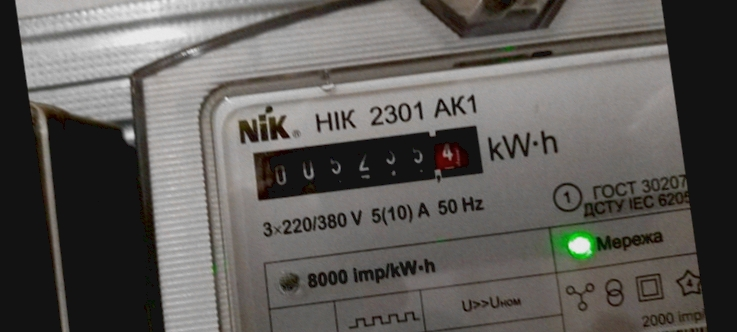0: (271, 158, 290, 186), (299, 152, 317, 179)
2: (354, 144, 371, 170)
3: (381, 138, 398, 165)
4: (438, 134, 456, 162)
5: (408, 135, 426, 164), (326, 147, 344, 175)
screen: (241, 109, 496, 212)
